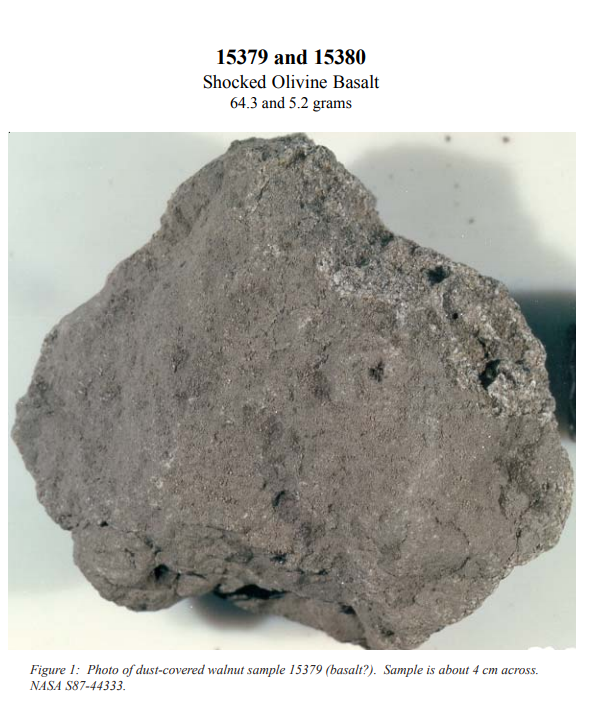Basalt: (31, 173, 569, 640), (204, 245, 503, 586)
